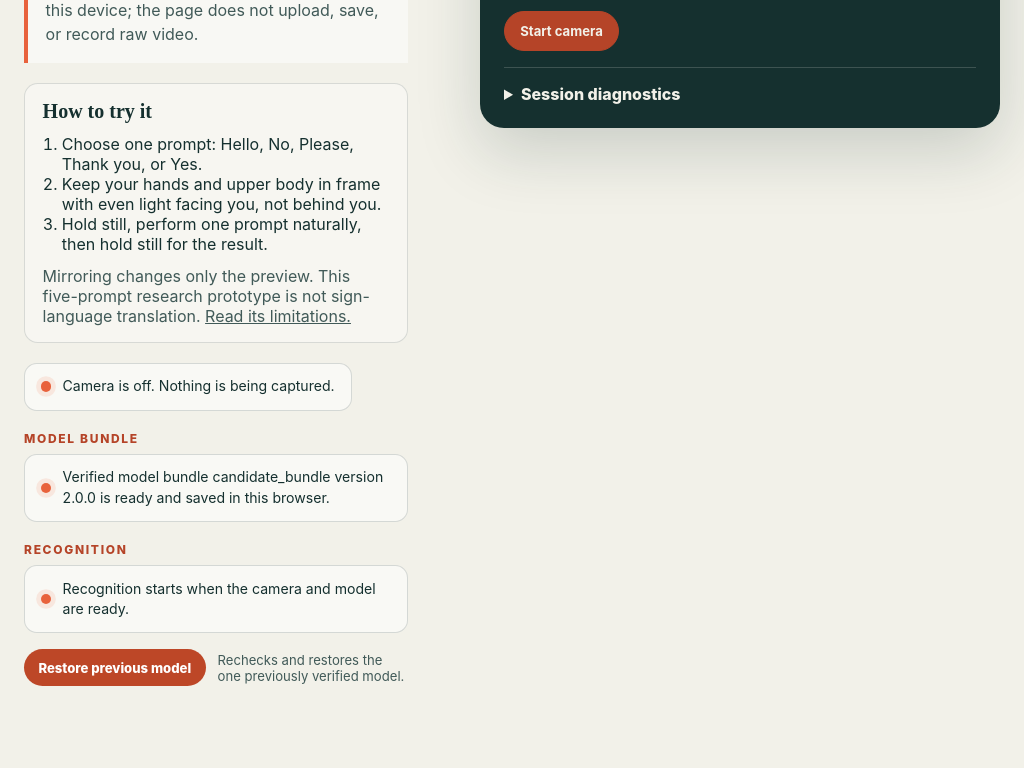
model bundle status › restores the previous verified bundle only after rollback succeeds
(page scrolled)
Click the button "Restore previous model": click(115, 668) [24,649,206,686]
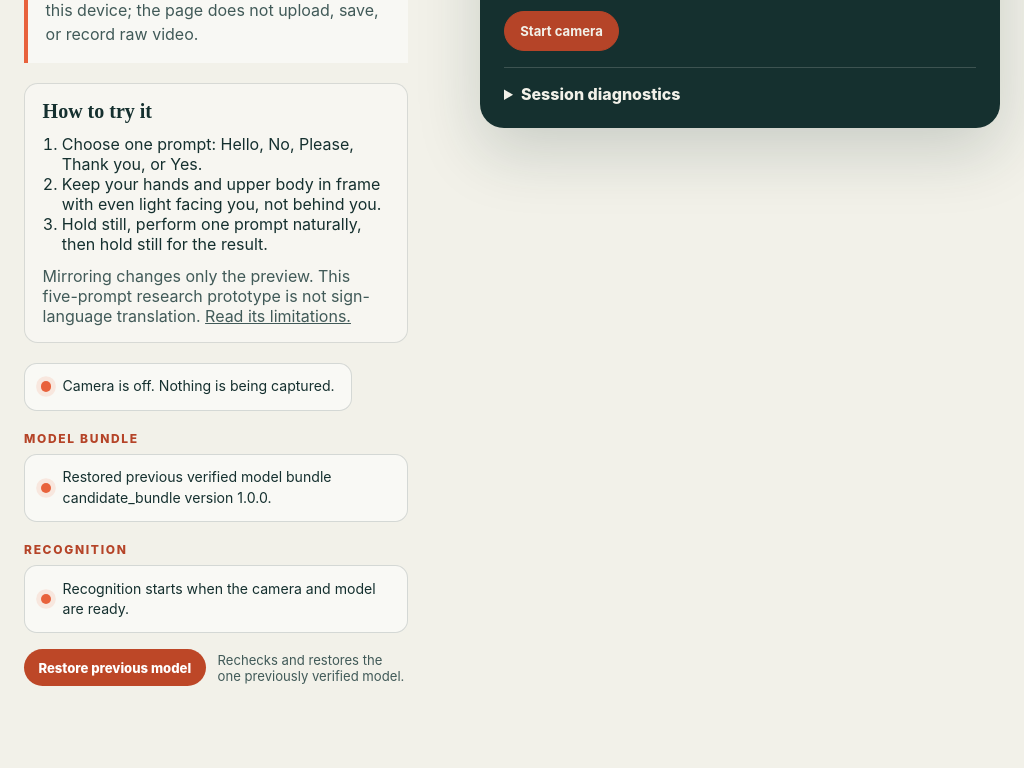
Result: the text "Restored previous verified model bundle candidate_bundle version 1.0.0." is shown at [24,454,408,522]
Click the heading "Session diagnostics": click(601, 94) [521,84,680,104]
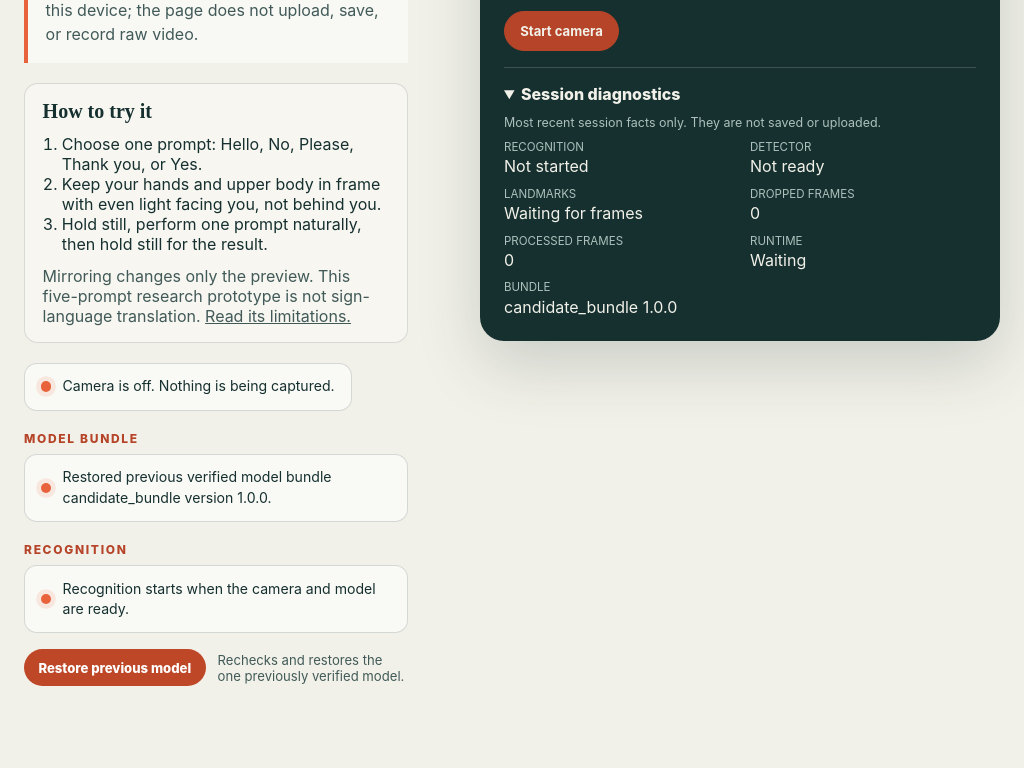
Result: the text "candidate_bundle 1.0.0" is shown at [504,297,677,317]
